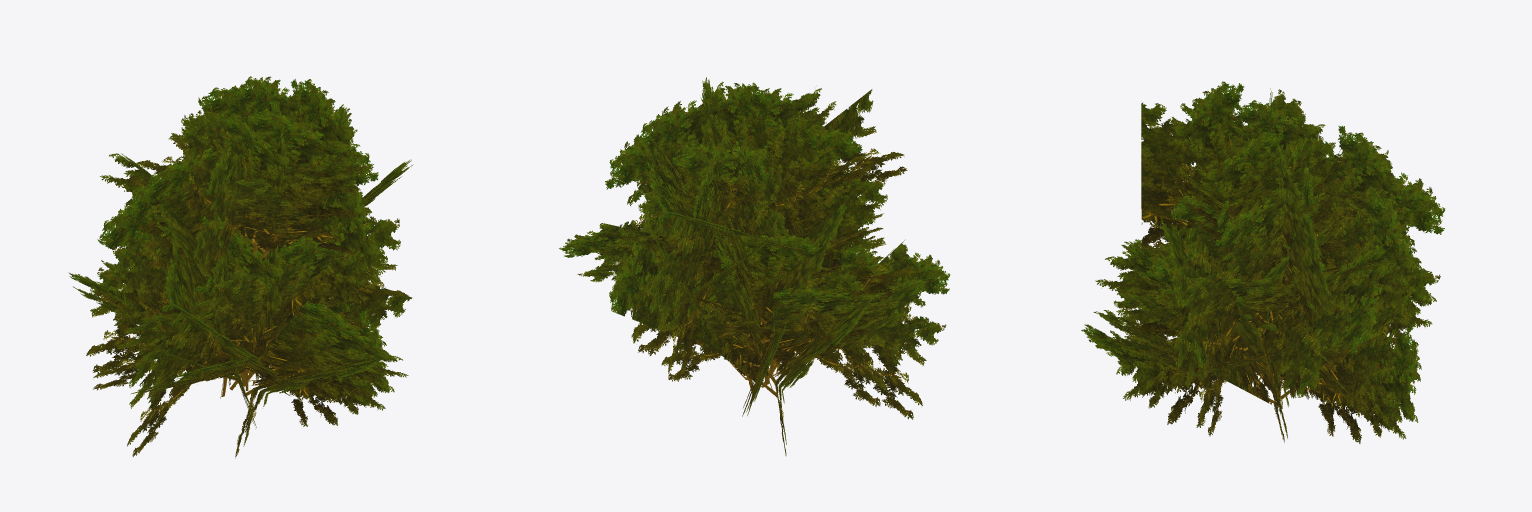
File: genericBush_03.dae
3 views of the same model, side by side, from view 1: azimuth 30°, elevation 25°; view 2: azimuth 150°, elevation 25°; view 3: azimuth 270°, elevation 25° (orthographic). The views are drawn at different scales.
Visible parts, largest first — view 1: genericBushThree128, genericBushThree256; view 2: genericBushThree128, genericBushThree256; view 3: genericBushThree128, genericBushThree256.
Part boxes in pixels (box(x1,y1,x2,y2)): genericBushThree128: box(68, 76, 412, 458); genericBushThree256: box(90, 85, 413, 448); genericBushThree128: box(559, 77, 950, 455); genericBushThree256: box(596, 88, 885, 416); genericBushThree128: box(1081, 81, 1444, 442); genericBushThree256: box(1114, 98, 1436, 443).
Bounding box in the file's own units: 16.69 × 15.47 × 14.92.
